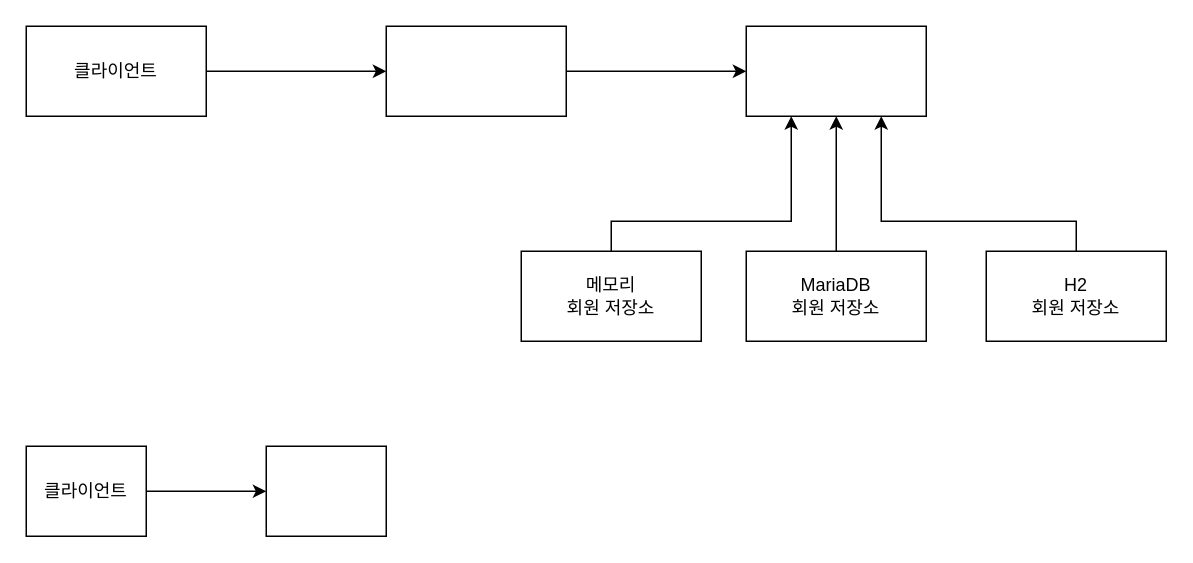
This 1193x563 diagram has some shape labels left out. Here are the shapes that lost their labels. From the top down, the centre of each, then its label:
At point (475, 70): "회원 서비스 1. 회원가입 2. 회원 조회 3. 회원 탈퇴".
At point (835, 70): "회원 저장소".
At point (325, 490): "매칭 서비스".
